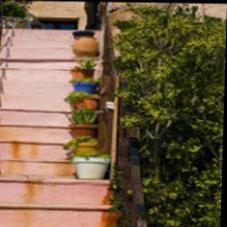Bench: (0, 106, 117, 220)
